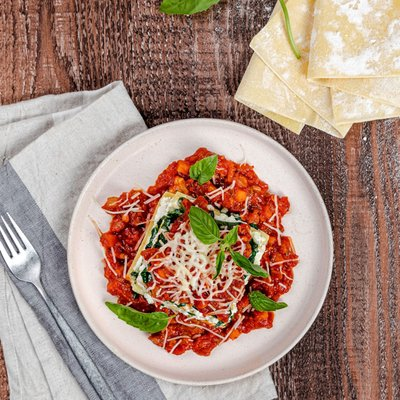burger: (0, 211, 82, 380)
